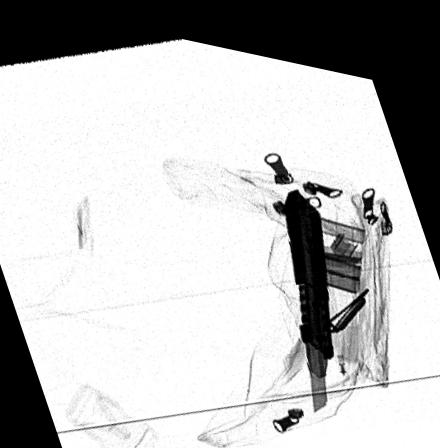Knife: (283, 175, 335, 400)
